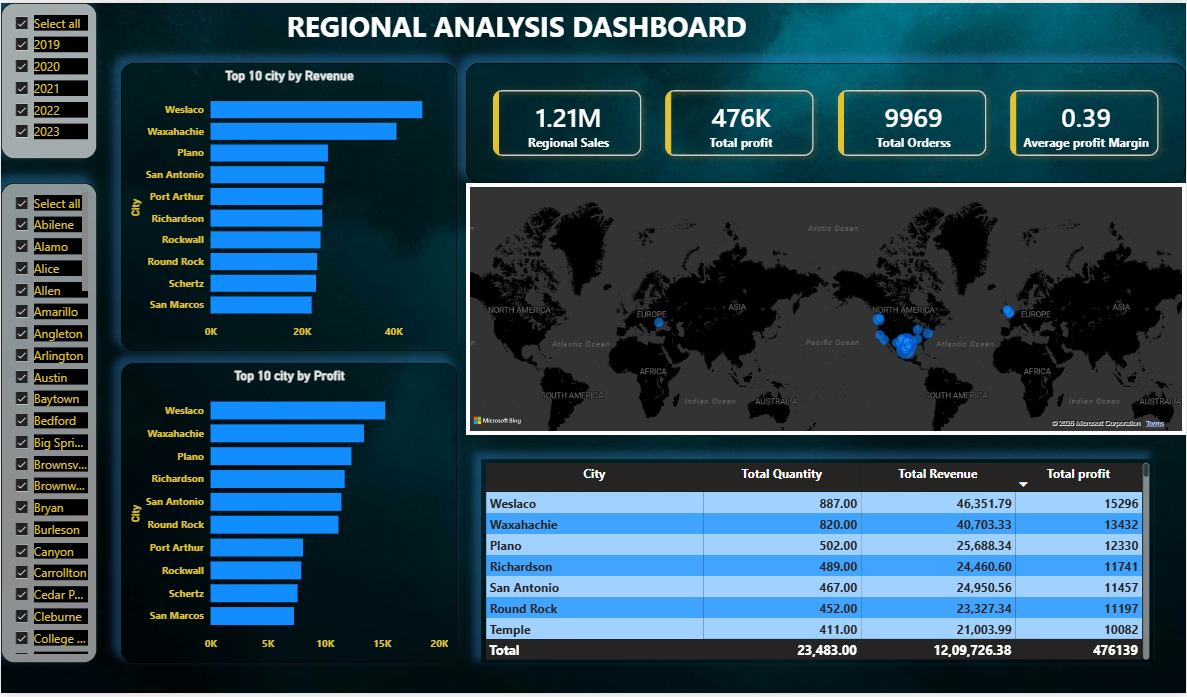

What the dashboard file says about the page in this screenshot:
{"tool":"powerbi","page":{"name":"Regional analysis","canvas":[1580,920],"ordinal":1},"visuals":[{"type":"textbox","box":[112,0,1152,80],"z":1000},{"type":"cardVisual","title":"regional sales","fields":{"Data":["walmart_sales walmartdata.Total Revenue","walmart_sales walmartdata.Total profit","walmart_sales walmartdata.Total Transactions","Avg(walmart_sales walmartdata.Profi Margin)"]},"box":[620,80,960,160],"z":2000},{"type":"clusteredBarChart","title":"Top 10 city by Revenue","fields":{"Category":["walmart_sales walmartdata.City"],"Y":["walmart_sales walmartdata.Total Revenue"]},"box":[160,80,448,384],"z":3000},{"type":"clusteredBarChart","title":"Top 10 city by Profit","fields":{"Category":["walmart_sales walmartdata.City"],"Y":["walmart_sales walmartdata.Total profit"]},"box":[160,480,448,400],"z":4000},{"type":"map","fields":{"Category":["walmart_sales walmartdata.City"],"Size":["walmart_sales walmartdata.Total Revenue"]},"box":[620,240,960,336],"z":5000},{"type":"tableEx","fields":{"Values":["walmart_sales walmartdata.City","walmart_sales walmartdata.Total Quantity","walmart_sales walmartdata.Total Revenue","walmart_sales walmartdata.Total profit"]},"box":[640,608,896,272],"z":6000},{"type":"slicer","fields":{"Values":["walmart_sales walmartdata.City"]},"box":[0,240,128,640],"z":6001},{"type":"slicer","fields":{"Values":["Calendar.Year"]},"box":[0,0,128,208],"z":6002}]}

Visuals, with their boxes in screenshot pixels (x1, y1, x2, y2), scaled from the page's 1580x920 canvas onto the 1187x697 screenshot:
textbox: box(84, 0, 950, 61)
"regional sales" cardVisual: box(466, 61, 1186, 182)
"Top 10 city by Revenue" clusteredBarChart: box(120, 61, 457, 352)
"Top 10 city by Profit" clusteredBarChart: box(120, 364, 457, 667)
map - walmart_sales walmartdata.City x walmart_sales walmartdata.Total Revenue: box(466, 182, 1186, 436)
tableEx - walmart_sales walmartdata.City x walmart_sales walmartdata.Total Quantity: box(481, 461, 1154, 667)
slicer - walmart_sales walmartdata.City: box(0, 182, 96, 667)
slicer - Calendar.Year: box(0, 0, 96, 158)
